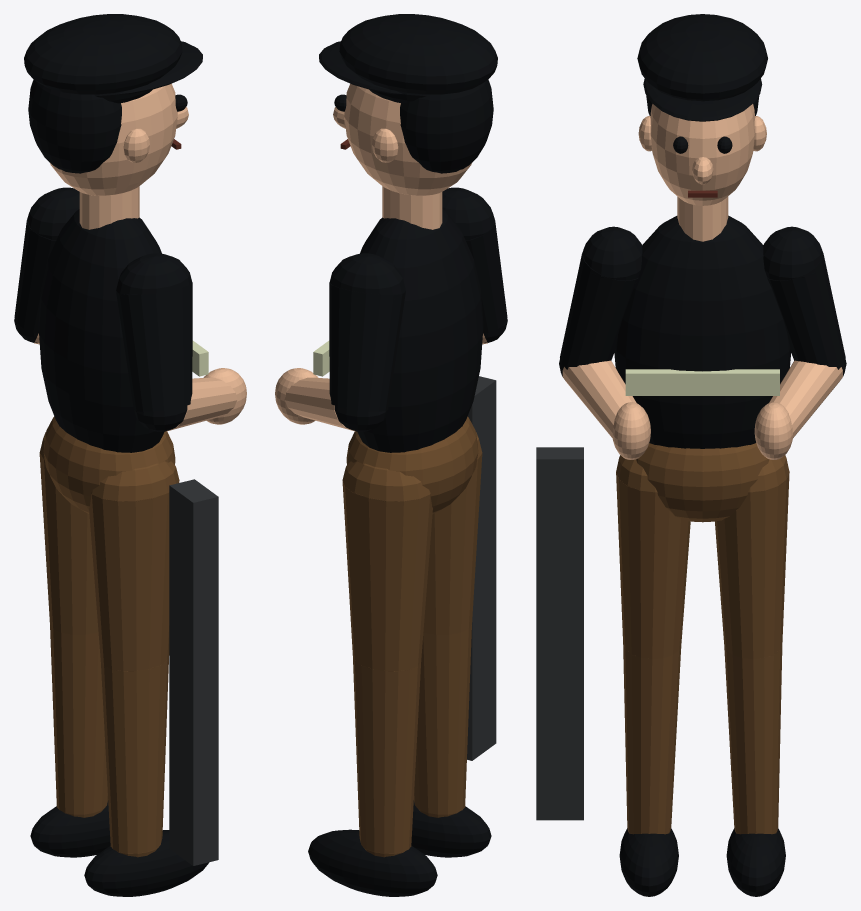
The model's file is person_08.dae.
3 views of the same model, side by side, from view 1: azimuth 30°, elevation 25°; view 2: azimuth 150°, elevation 25°; view 3: azimuth 270°, elevation 25° (orthographic).
Visible parts, largest first — view 1: part1node, part0node, part5node, part3node, part2node; view 2: part1node, part0node, part3node, part5node, part2node; view 3: part1node, part0node, part3node, part5node, part2node.
Part boxes in pixels (x1,y1,x2,y2): part1node: [14, 14, 209, 896]; part0node: [39, 416, 179, 857]; part5node: [169, 479, 218, 865]; part3node: [34, 83, 246, 431]; part2node: [192, 340, 208, 376]; part1node: [308, 14, 507, 896]; part0node: [342, 416, 482, 857]; part3node: [275, 83, 487, 431]; part5node: [467, 376, 496, 760]; part2node: [313, 340, 329, 376]; part1node: [559, 14, 846, 896]; part0node: [616, 443, 789, 834]; part3node: [562, 104, 842, 459]; part5node: [536, 447, 583, 820]; part2node: [625, 369, 779, 395].
Size of the model in its own units: 0.033 by 0.05 by 0.15.
